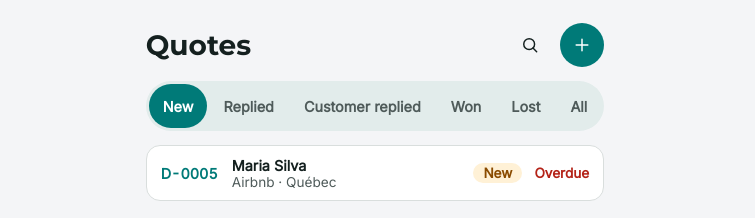
Test case: QuotesPage › keeps the search box behind the magnifier button in the header, like Clients
expect the link "D-0005 Maria Silva Airbnb · Québec New Overdue" is shown: met, box [146,145,604,201]
Click the button named "Search quotes" at (530, 45), box [508,23,552,67]
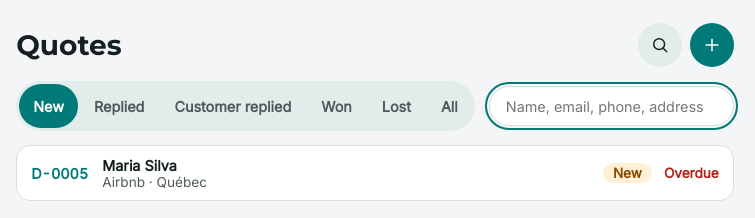
expect the search field named "Search quotes" is shown: met
Type "sao" into the search field named "Search quotes" at (611, 106), box [489,86,734,126]
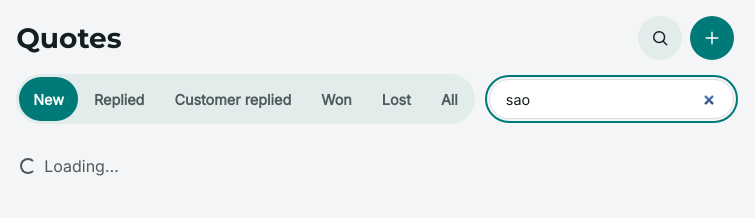
Click the button named "Search quotes" at (660, 38), box [638,16,682,60]
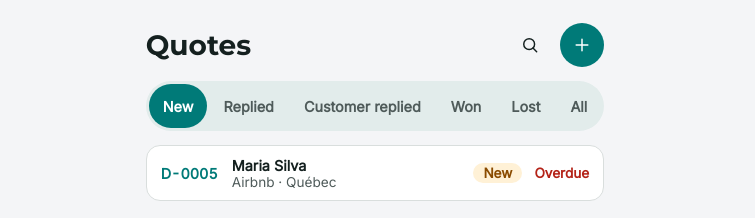
expect the link "D-0005 Maria Silva Airbnb · Québec New Overdue" is shown: met, box [146,145,604,201]
